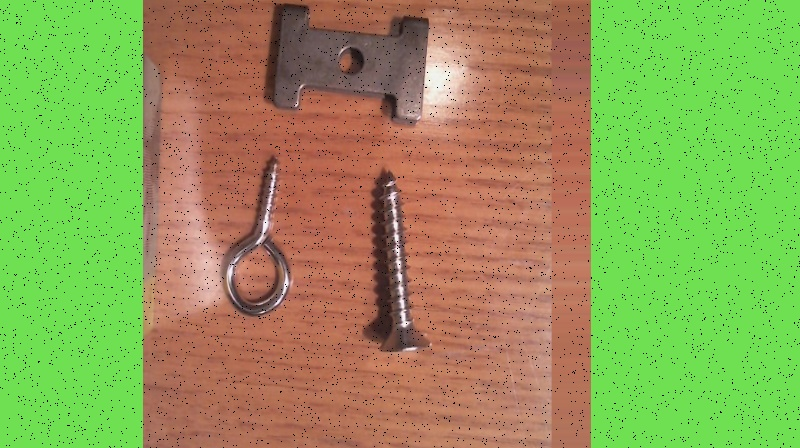O001: (217, 148, 297, 320)
O002: (266, 0, 434, 121)
S001: (371, 165, 434, 357)
